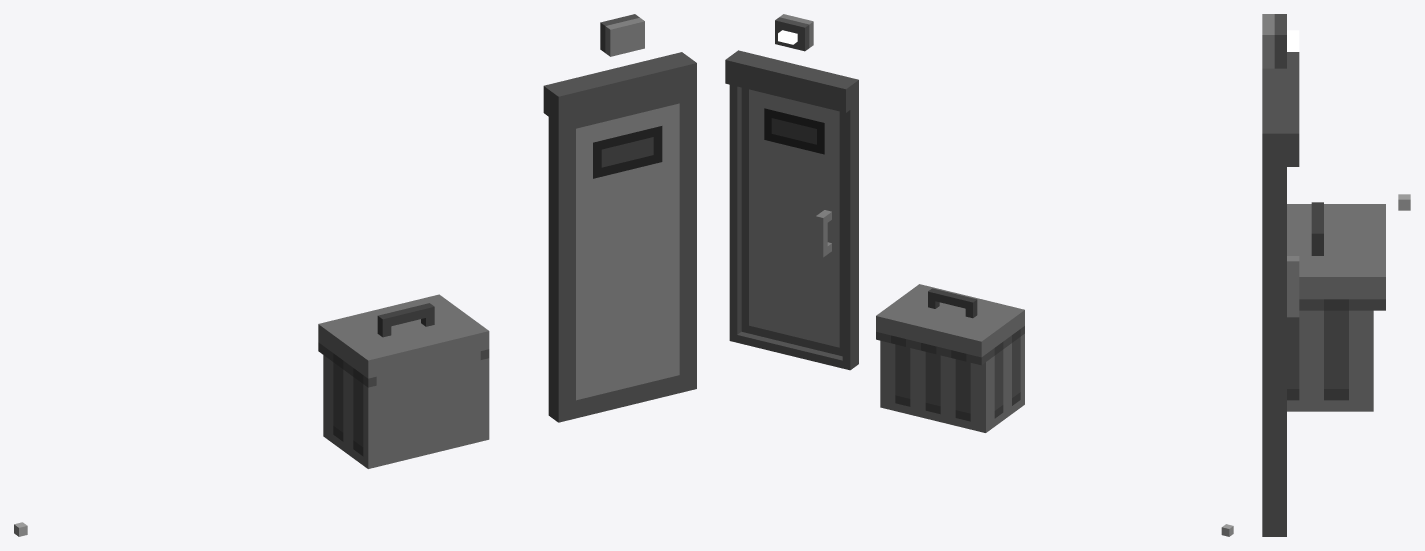
The model's file is backdoorOne.glb.
3 views of the same model, side by side, from view 1: azimuth 30°, elevation 25°; view 2: azimuth 150°, elevation 25°; view 3: azimuth 270°, elevation 25° (orthographic). The views are drawn at different scales.
Parts seen in each view (by area): view 1: ObjObject; view 2: ObjObject; view 3: ObjObject.
Boxes of the visible parts, x1,y1,x2,y2 form: ObjObject: [14, 14, 696, 536]; ObjObject: [725, 14, 1233, 536]; ObjObject: [1262, 14, 1410, 536].
Bounding box in the file's own units: 7.2 × 4.6 × 1.2.
2 materials, 1 textured.
